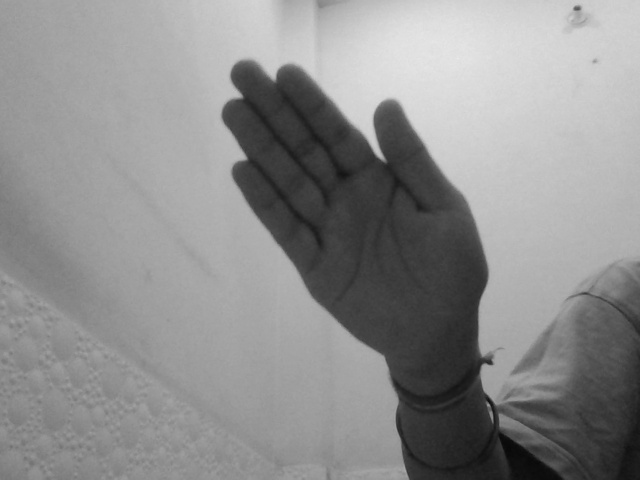Hello: (217, 58, 491, 367)
